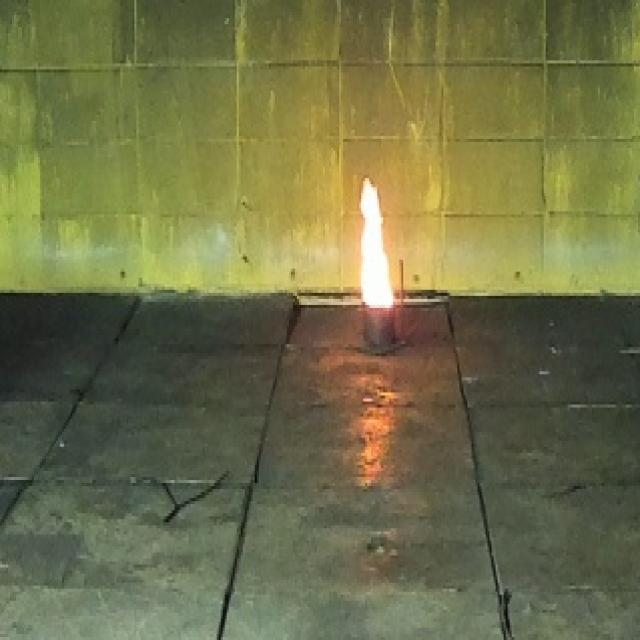Fire: (359, 177, 395, 310)
